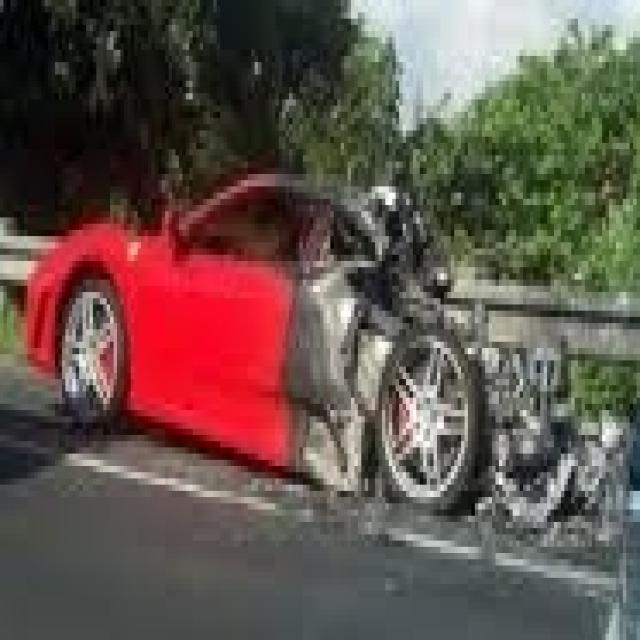severe: (145, 144, 534, 564)
